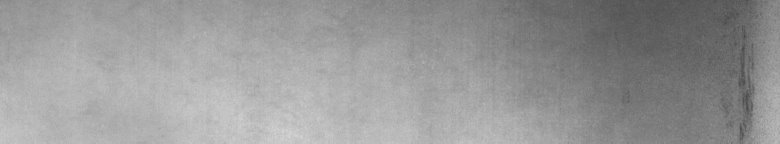ka: (721, 13, 760, 136)
